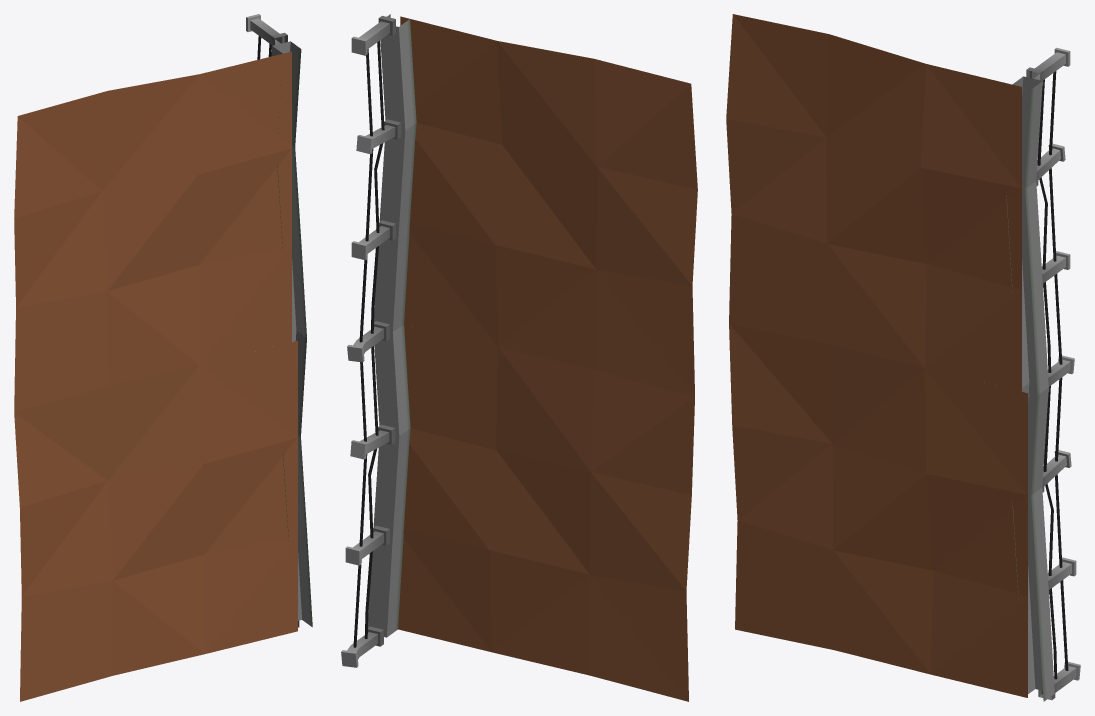
Rendered from loading_map.fbx.
3 renders of one model, left to right at view 1: azimuth 30°, elevation 25°; view 2: azimuth 150°, elevation 25°; view 3: azimuth 330°, elevation 25°, orthographic. The views are drawn at different scales.
Visible parts, largest first — view 1: Map.001; view 2: Map.001; view 3: Map.001.
Boxes of the visible parts, bbox=[...] form: Map.001: bbox=[14, 14, 312, 701]; Map.001: bbox=[341, 14, 697, 701]; Map.001: bbox=[726, 14, 1080, 701].
Size of the model in its own units: 3247 by 6162 by 791.
1 material, 1 textured.
